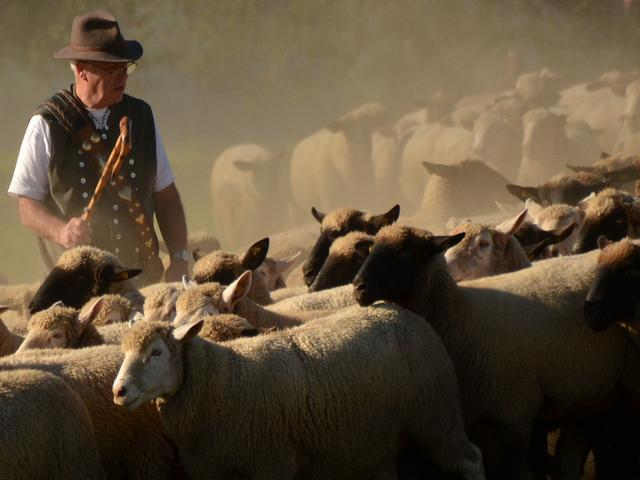sheep: (108, 305, 513, 479)
